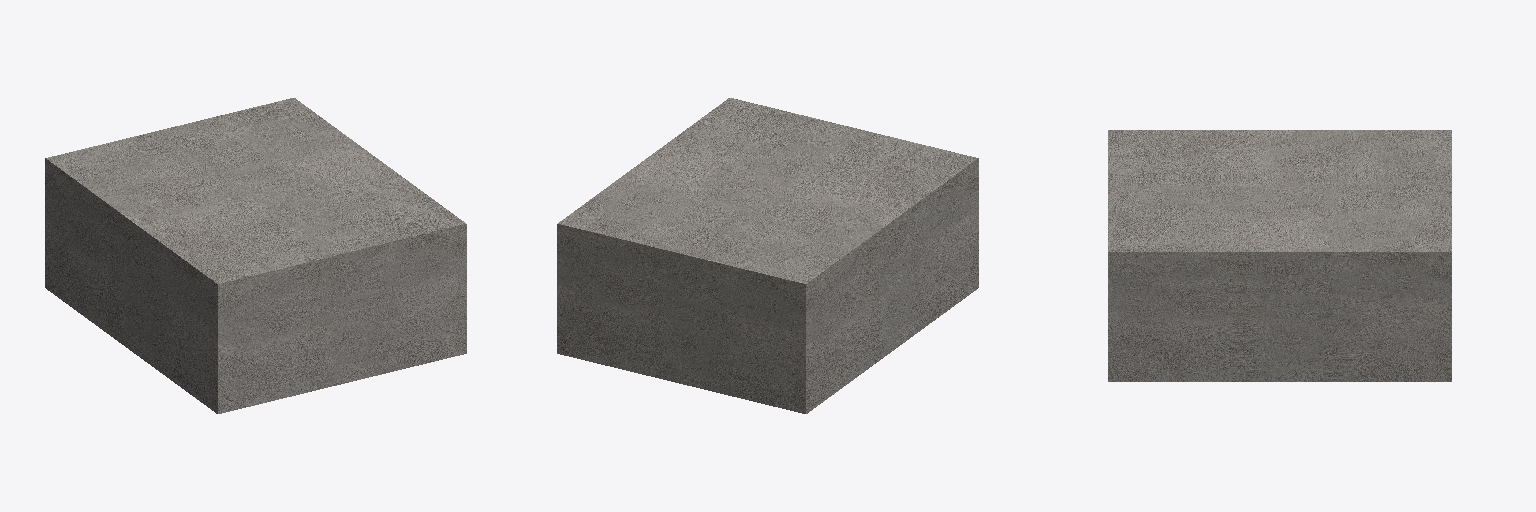
3 views of the same model, side by side, from view 1: azimuth 30°, elevation 25°; view 2: azimuth 150°, elevation 25°; view 3: azimuth 270°, elevation 25° (orthographic).
Visible parts, largest first — view 1: 6x5x2,5; view 2: 6x5x2,5; view 3: 6x5x2,5.
Boxes of the visible parts, box(x1,y1,x2,y2) form: 6x5x2,5: box(45, 98, 466, 413); 6x5x2,5: box(557, 98, 978, 413); 6x5x2,5: box(1108, 130, 1451, 381).
Size of the model in its own units: 5 by 2.5 by 6.
Materials: 1 (1 with a texture image).